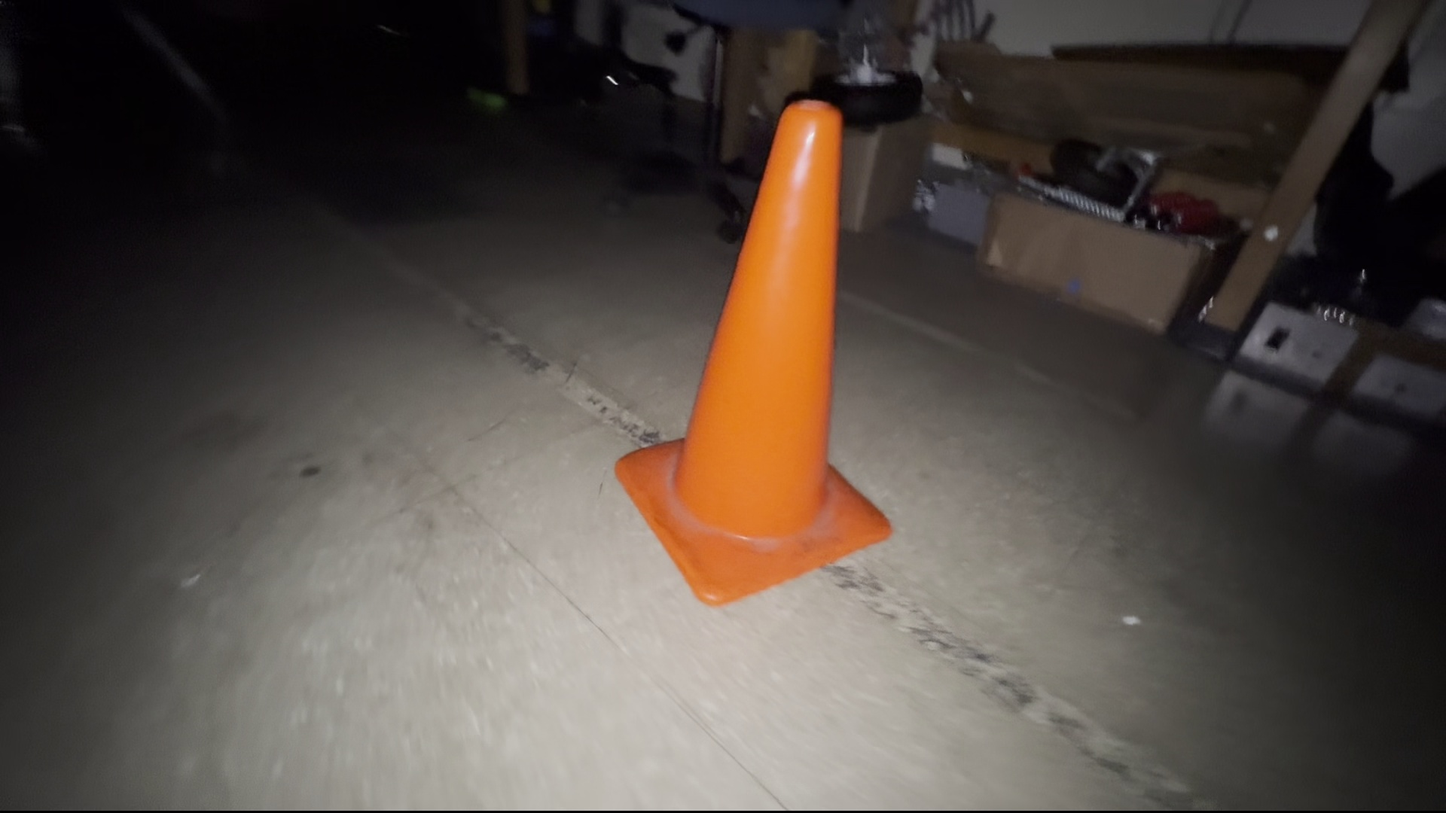traffic_cone: (613, 98, 894, 608)
